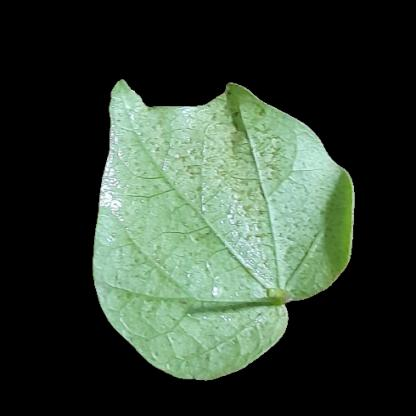healthy: (123, 145, 276, 308), (282, 139, 335, 269)
